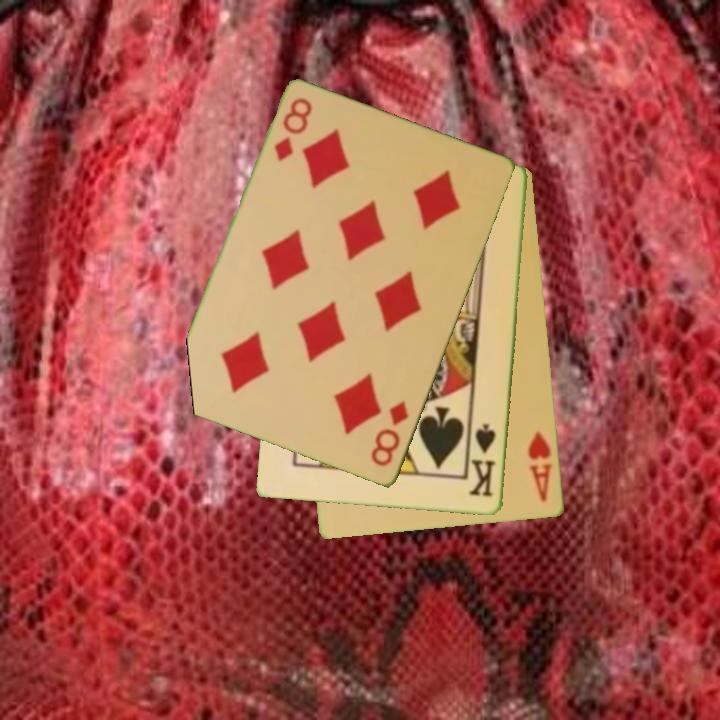8d: (367, 397, 412, 470), (271, 94, 315, 165)
Ah: (525, 428, 555, 505)
Ks: (466, 421, 500, 500)
